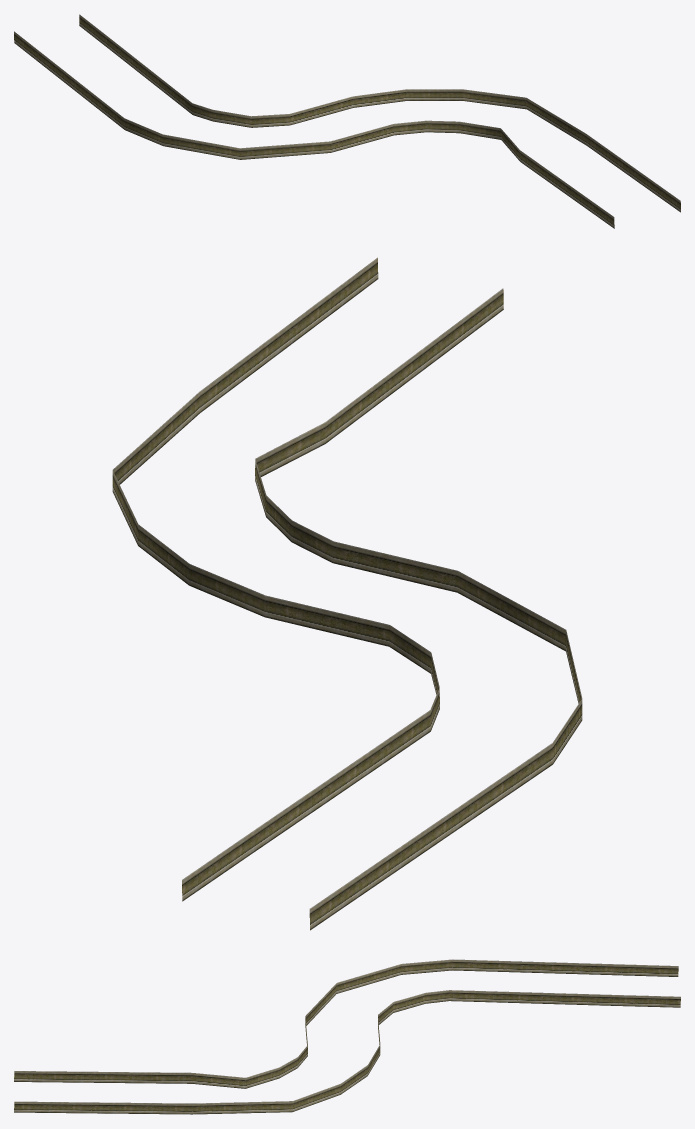
Rendered from CH09_SMAUG_PLAYSURFACE_LAIR105.fbx.
The picture shows the model from 3 angles, top to bottom: view 1: azimuth 30°, elevation 25°; view 2: azimuth 150°, elevation 25°; view 3: azimuth 270°, elevation 25°; orthographic projection. The views are drawn at different scales.
Parts seen in each view (by area): view 1: CH09_SMAUG_PLAYSURFACE_LAIR105; view 2: CH09_SMAUG_PLAYSURFACE_LAIR105; view 3: CH09_SMAUG_PLAYSURFACE_LAIR105.
Boxes of the visible parts, x1,y1,x2,y2 form: CH09_SMAUG_PLAYSURFACE_LAIR105: [14, 14, 680, 228]; CH09_SMAUG_PLAYSURFACE_LAIR105: [112, 257, 582, 930]; CH09_SMAUG_PLAYSURFACE_LAIR105: [14, 959, 680, 1114].
Bounding box in the file's own units: 192670 × 12595 × 362997.
Materials: 1 (1 with a texture image).
